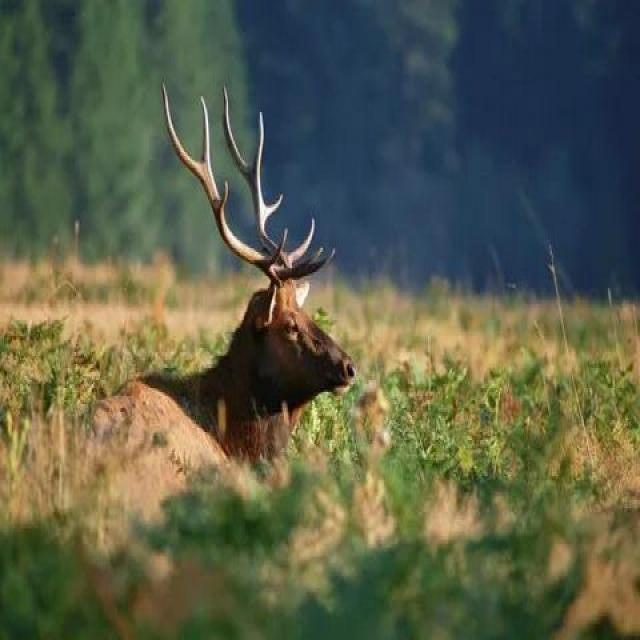deer: (40, 112, 425, 565)
